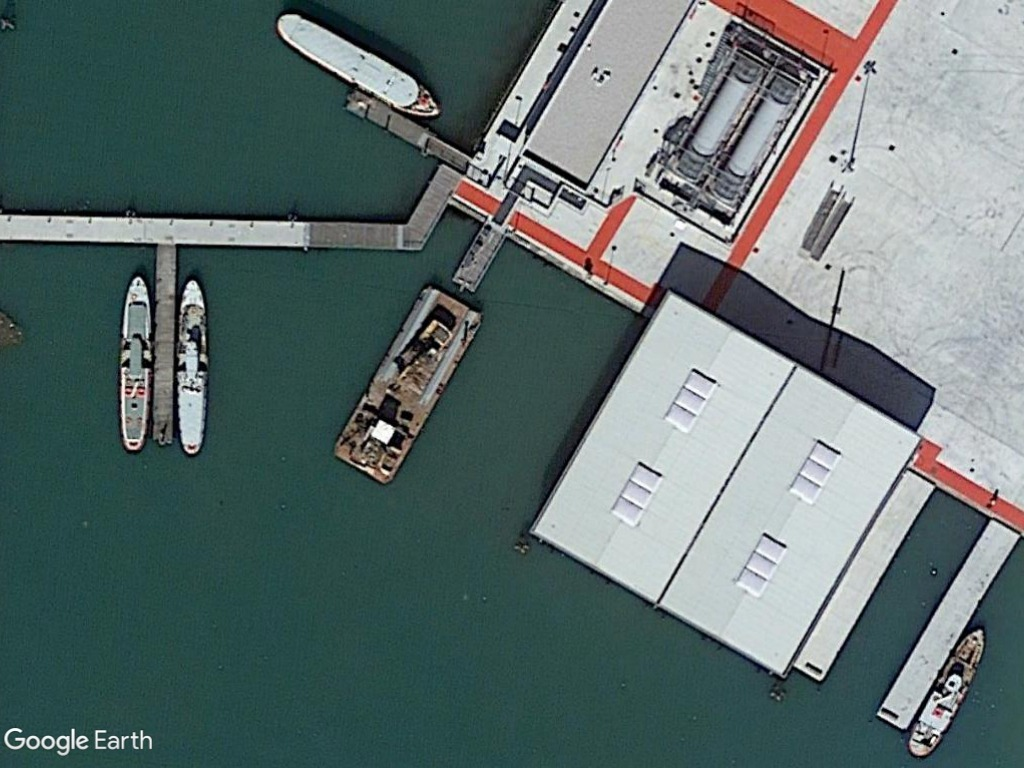boat: (268, 7, 445, 126), (904, 625, 991, 758), (118, 268, 153, 456), (177, 268, 209, 460)
